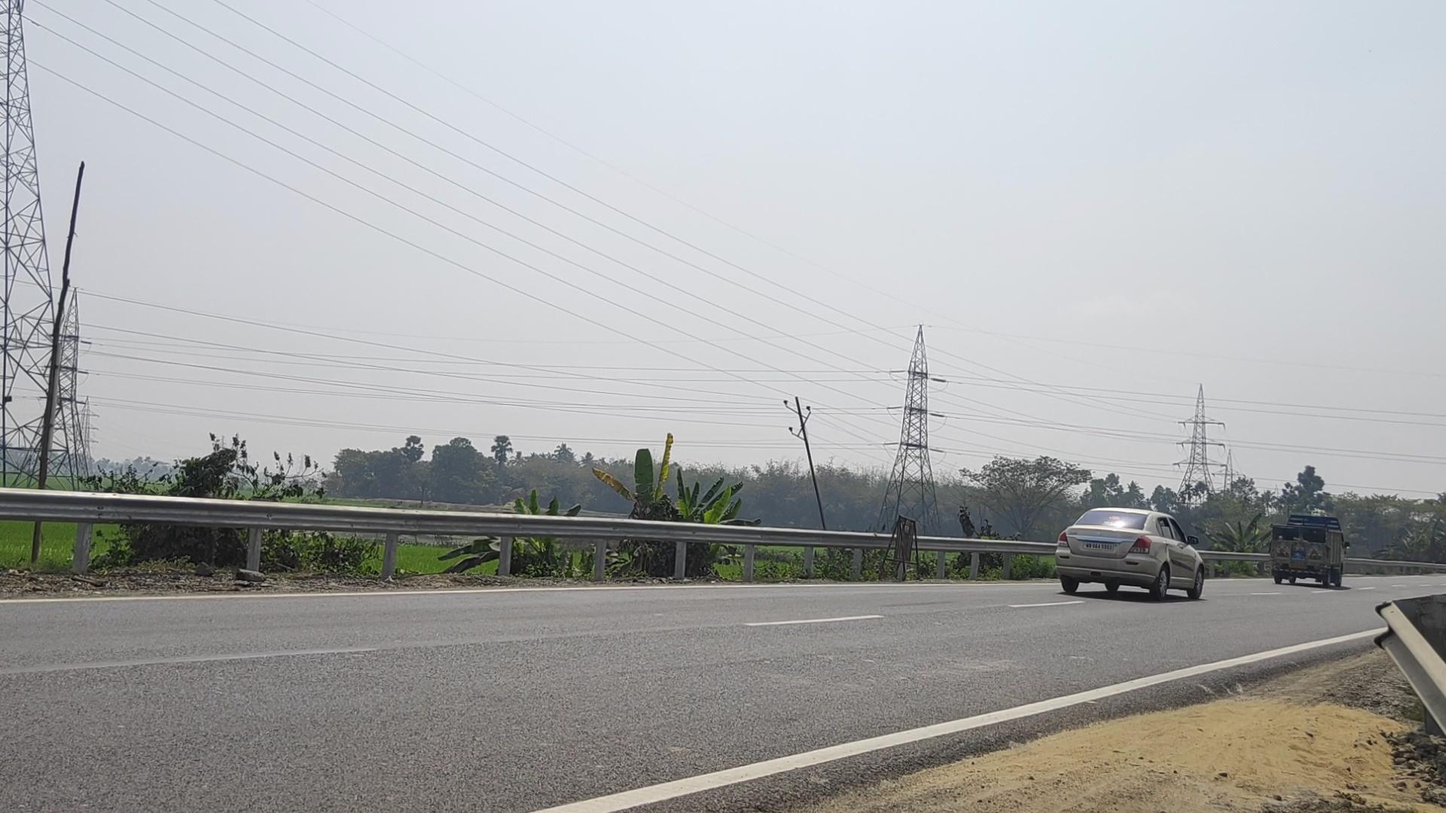car: (1054, 506, 1205, 602)
van: (1270, 514, 1351, 588)
